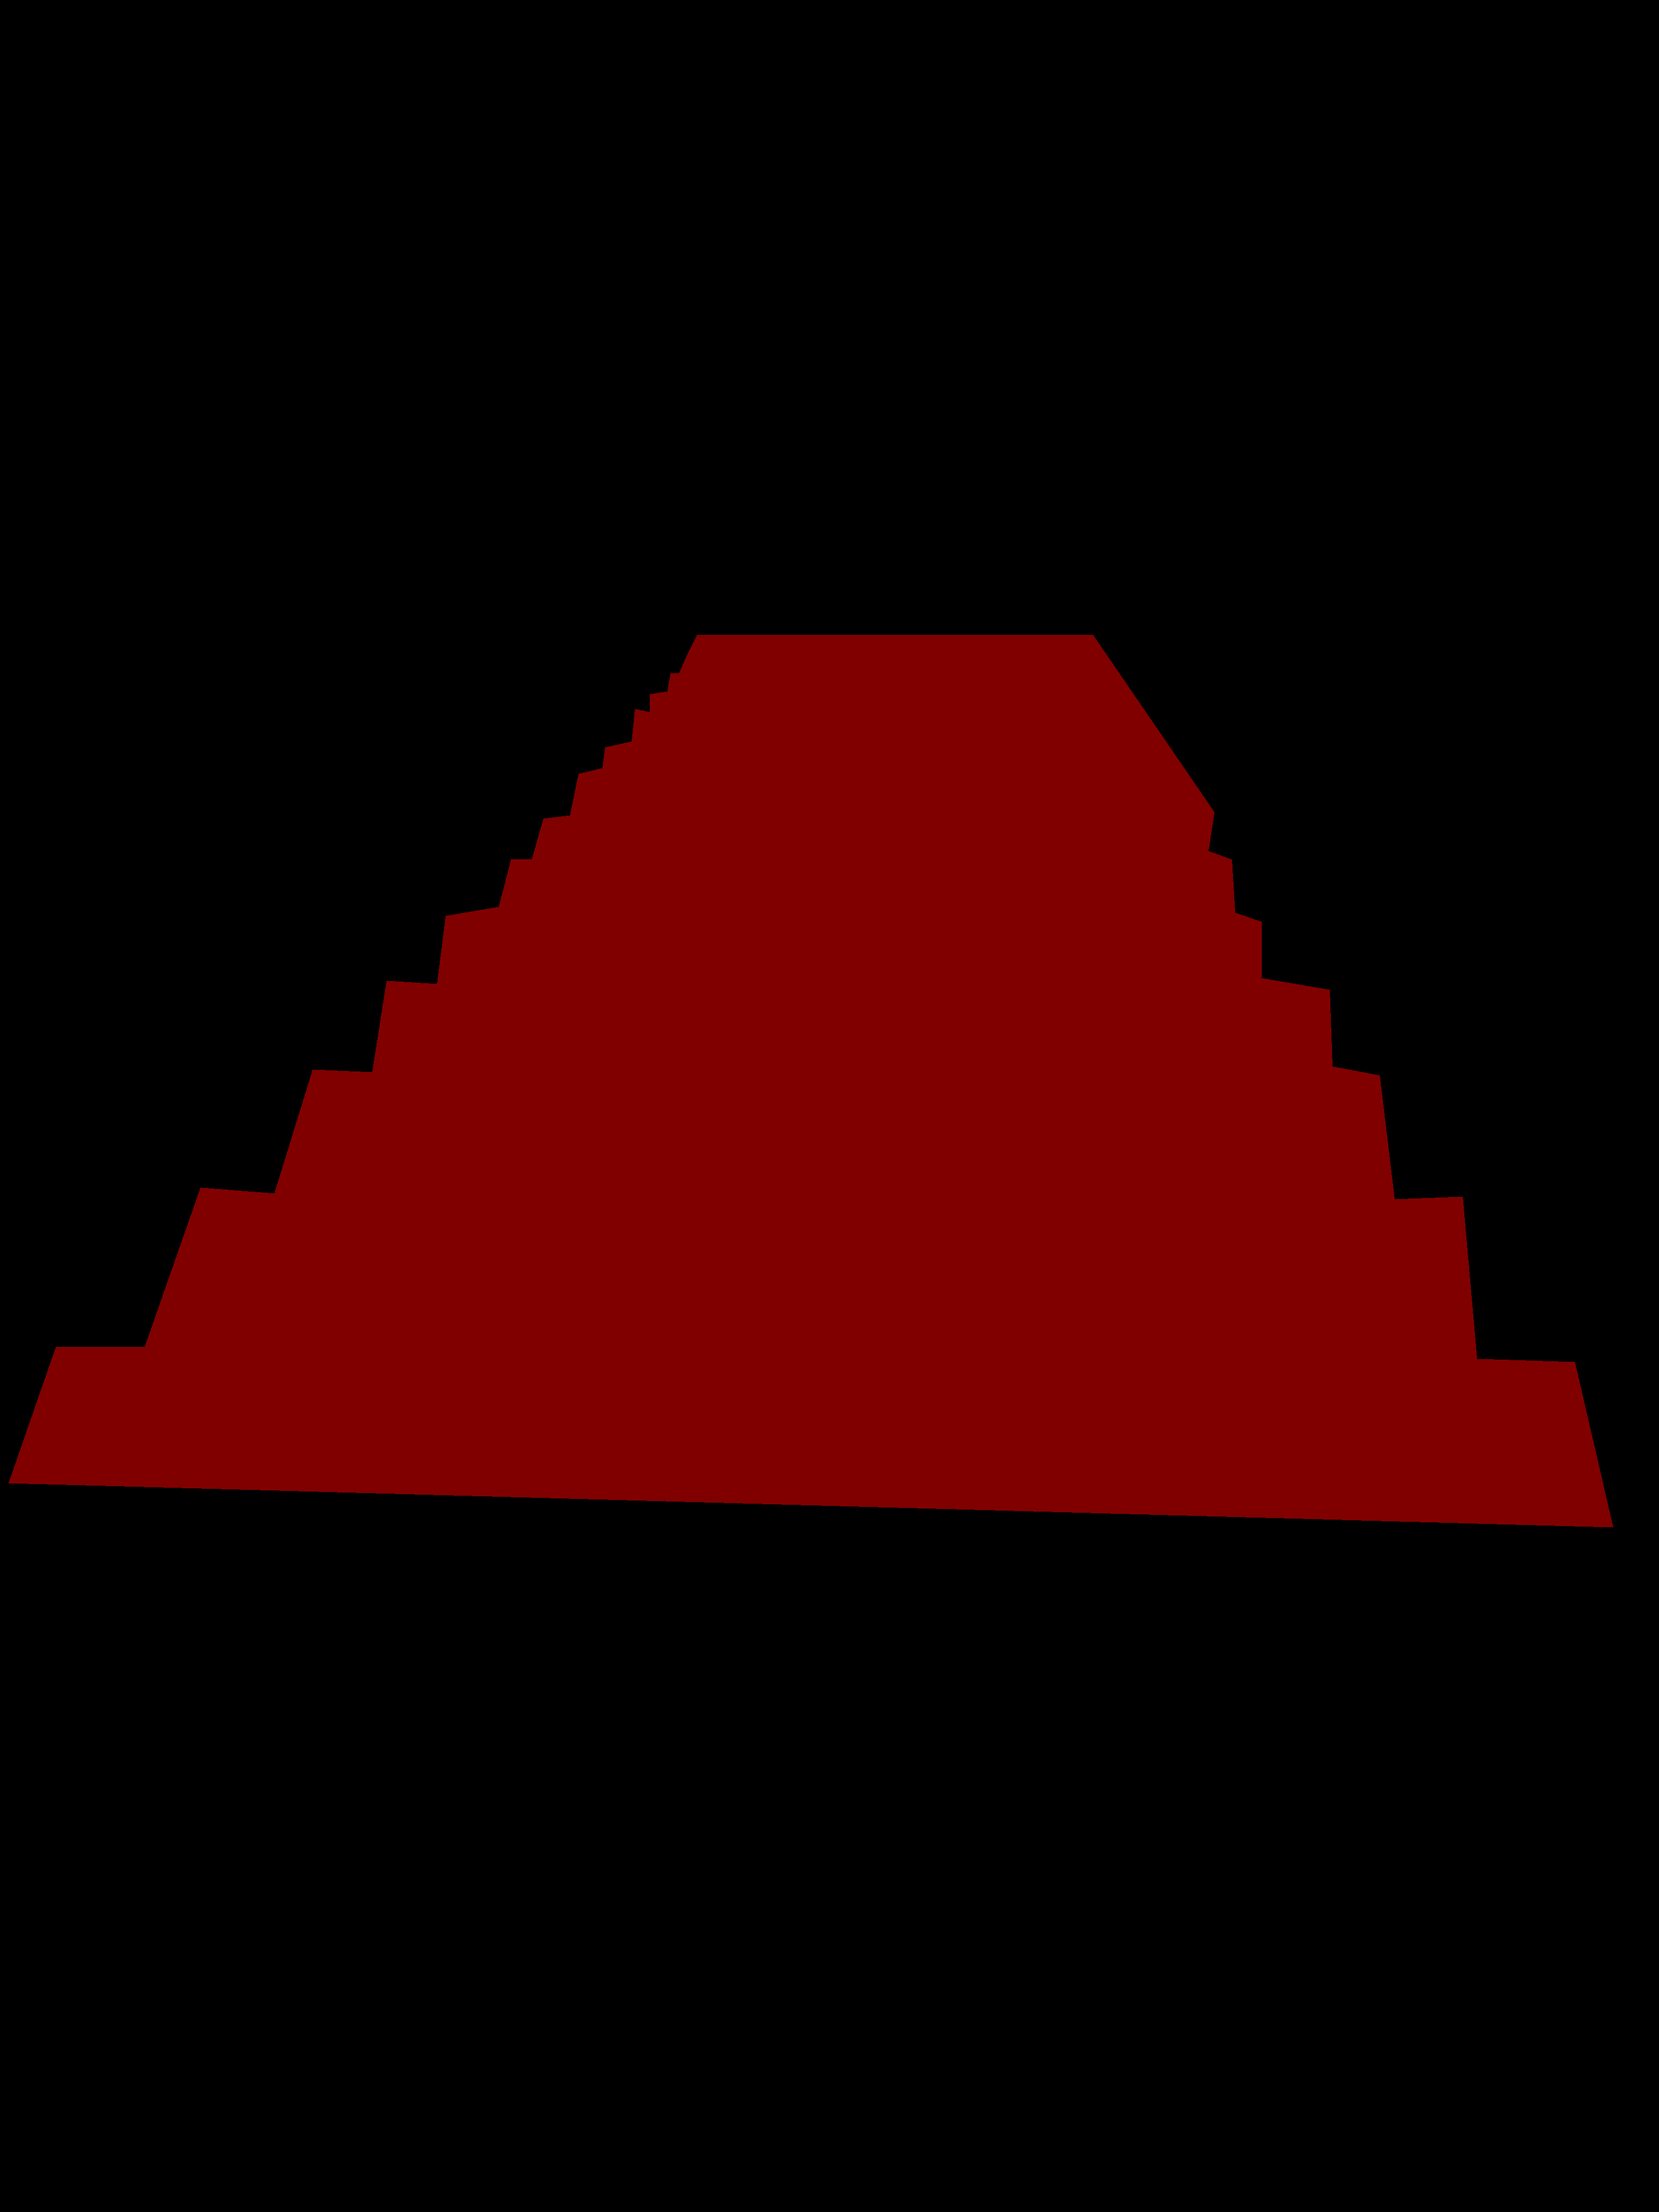stair: (9, 636, 1612, 1527)
